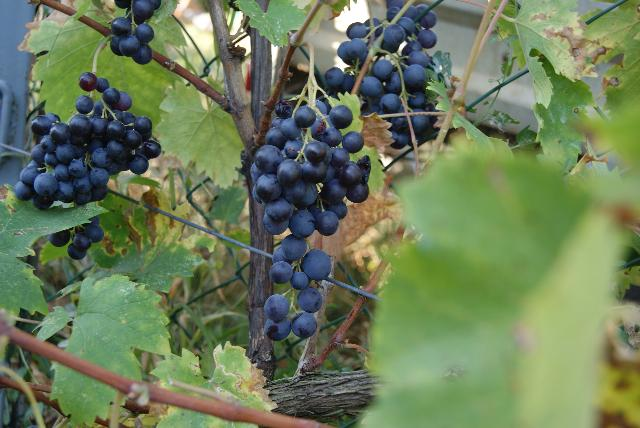grapes: (250, 102, 370, 341), (14, 72, 161, 210), (339, 6, 436, 149)
